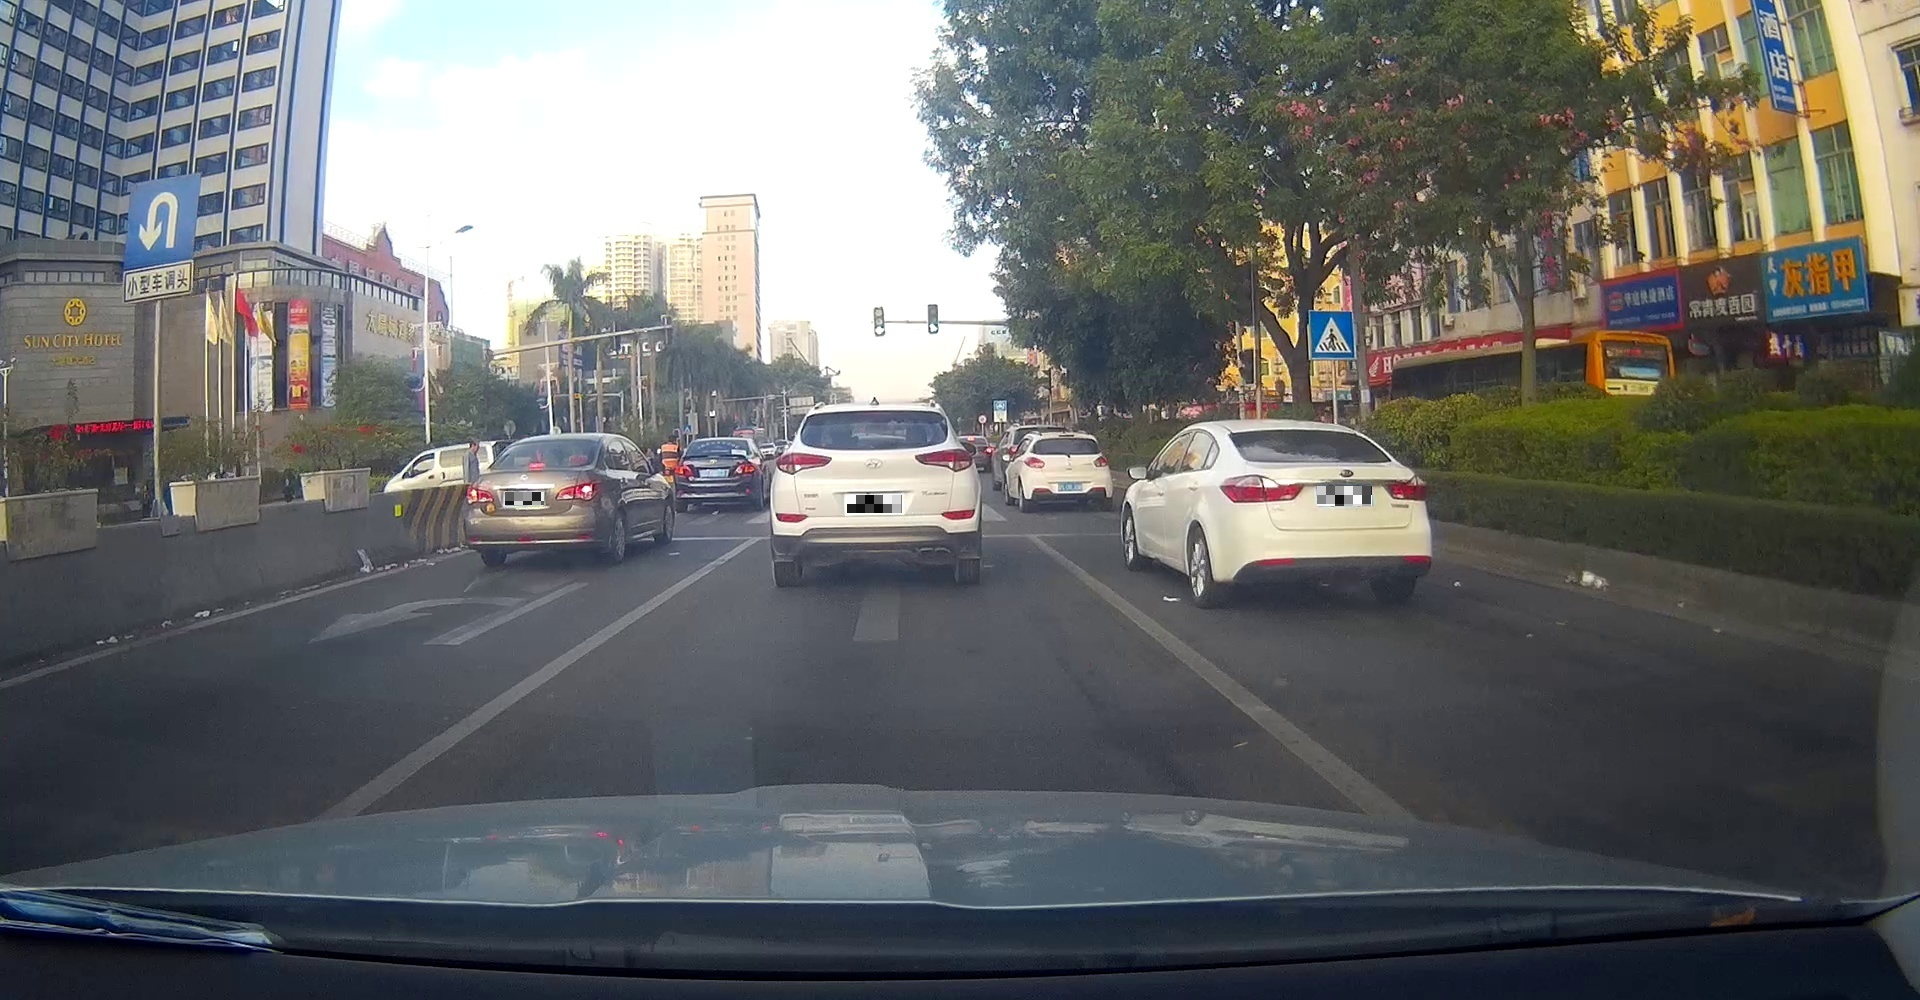L_light: (1220, 475, 1304, 504), (775, 451, 832, 476), (465, 485, 493, 505), (1023, 456, 1045, 470), (674, 464, 693, 477)
R_light: (914, 447, 973, 472), (1382, 473, 1430, 501), (555, 480, 599, 501), (735, 463, 756, 473), (1092, 456, 1109, 467)
T_light: (858, 410, 889, 416), (1291, 430, 1316, 434), (709, 454, 720, 457), (1060, 439, 1072, 442)
day-brake: (463, 433, 604, 569), (528, 462, 545, 470)
day-no: (1214, 419, 1431, 610), (770, 404, 982, 588), (1022, 431, 1112, 511), (673, 437, 758, 511)
plate_1: (505, 492, 543, 505)
plate_2: (847, 495, 902, 513)
plate_3: (1317, 486, 1371, 506)
